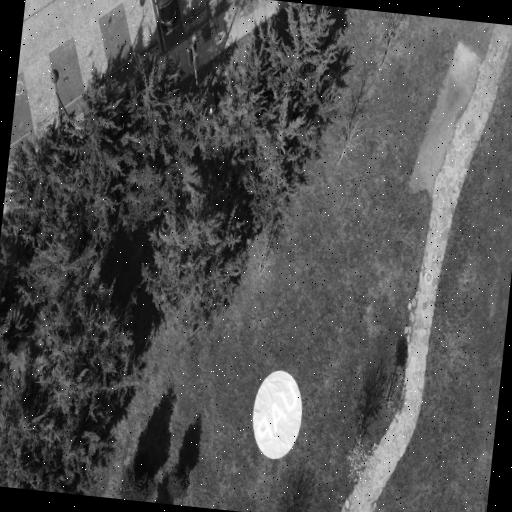car: (253, 370, 302, 459)
